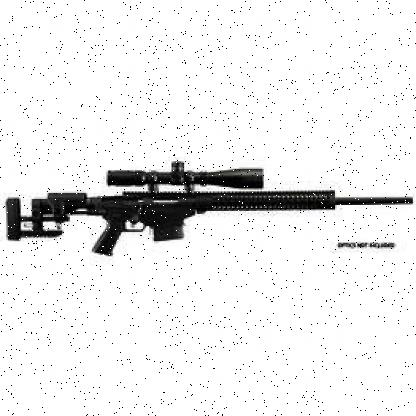rifle: (6, 152, 416, 270)
